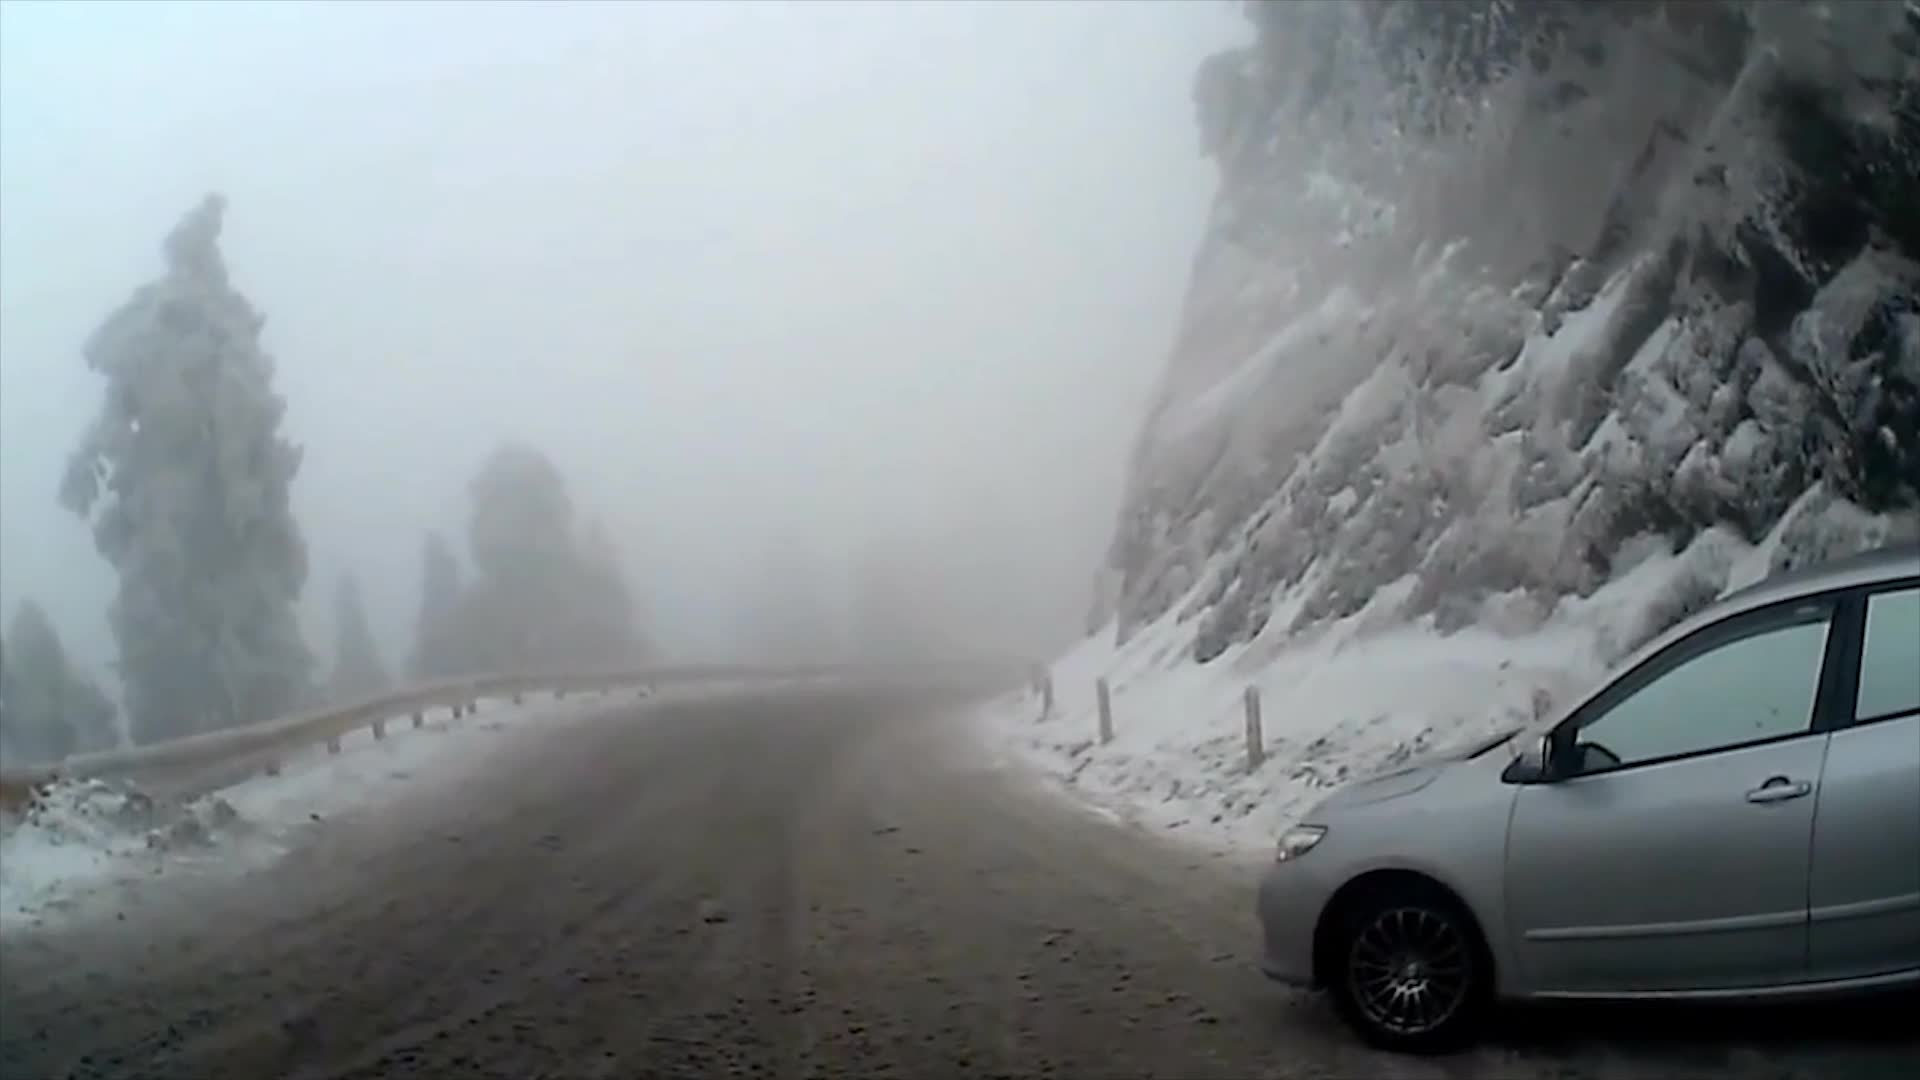vehicle: (1250, 543, 1920, 1056)
